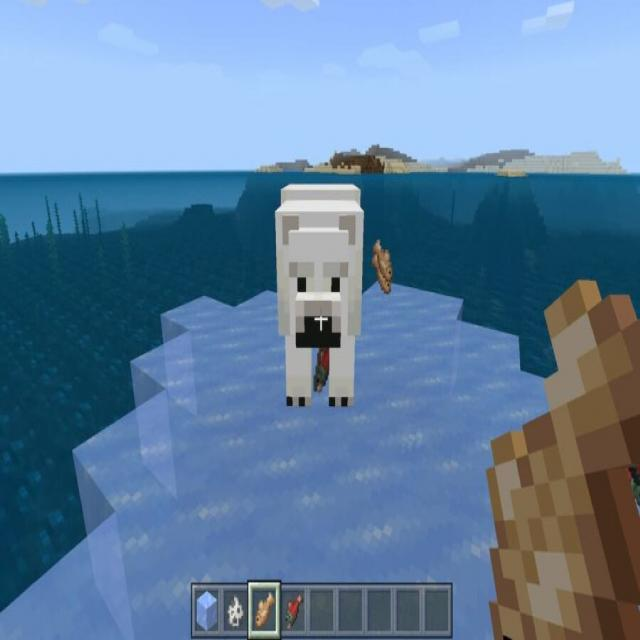Polar Bear: (273, 180, 364, 410)
